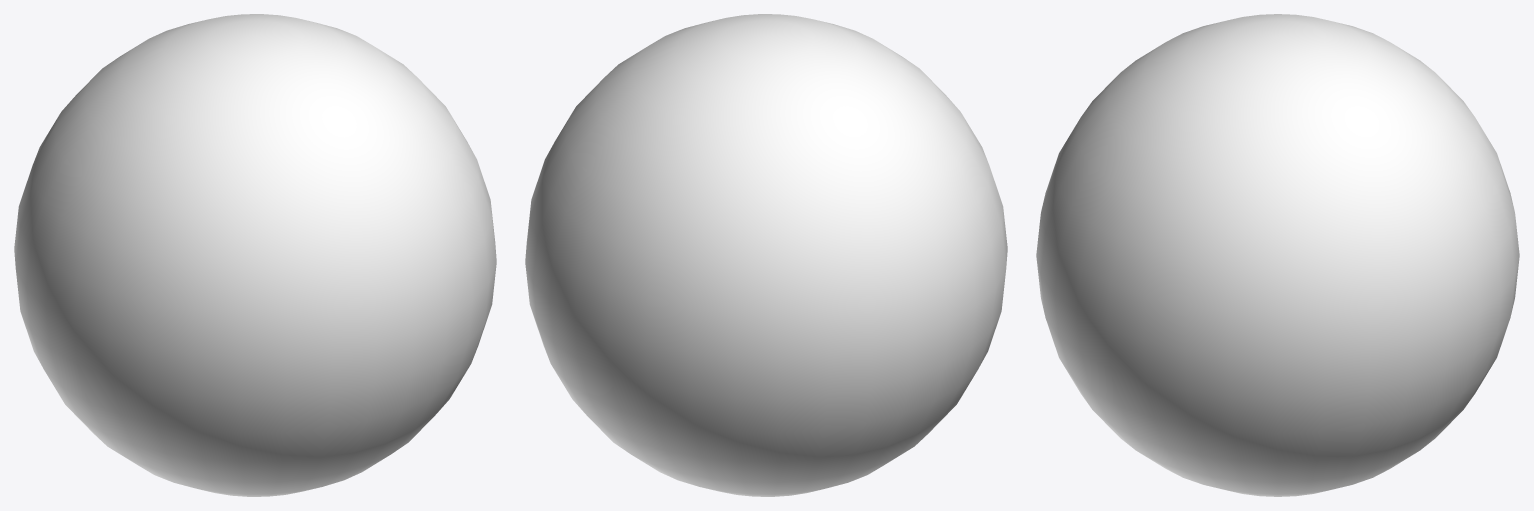
File: glove.fbx
3 renders of one model, left to right at view 1: azimuth 30°, elevation 25°; view 2: azimuth 150°, elevation 25°; view 3: azimuth 270°, elevation 25°, orthographic.
Visible parts, largest first — view 1: bubble; view 2: bubble; view 3: bubble.
Boxes of the visible parts, x1=… form: bubble: x1=14, y1=14, x2=496, y2=496; bubble: x1=525, y1=14, x2=1007, y2=496; bubble: x1=1036, y1=14, x2=1519, y2=496.
Bounding box in the file's own units: 238 × 238 × 238.
Materials: 2 (2 with a texture image).
